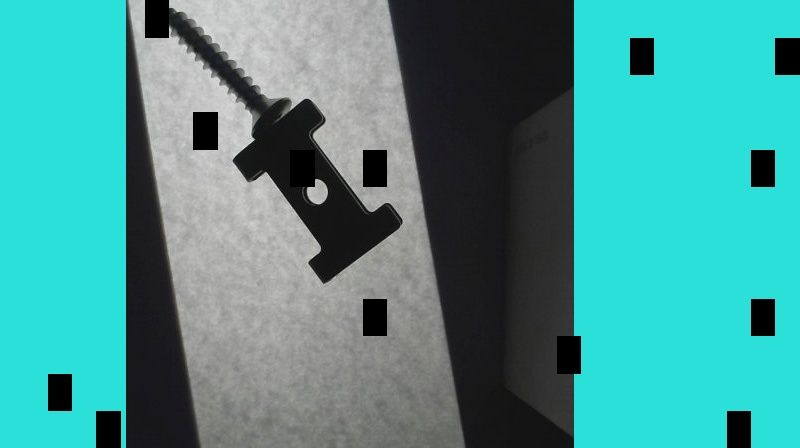O002: (232, 98, 402, 285)
S001: (158, 2, 290, 140)
